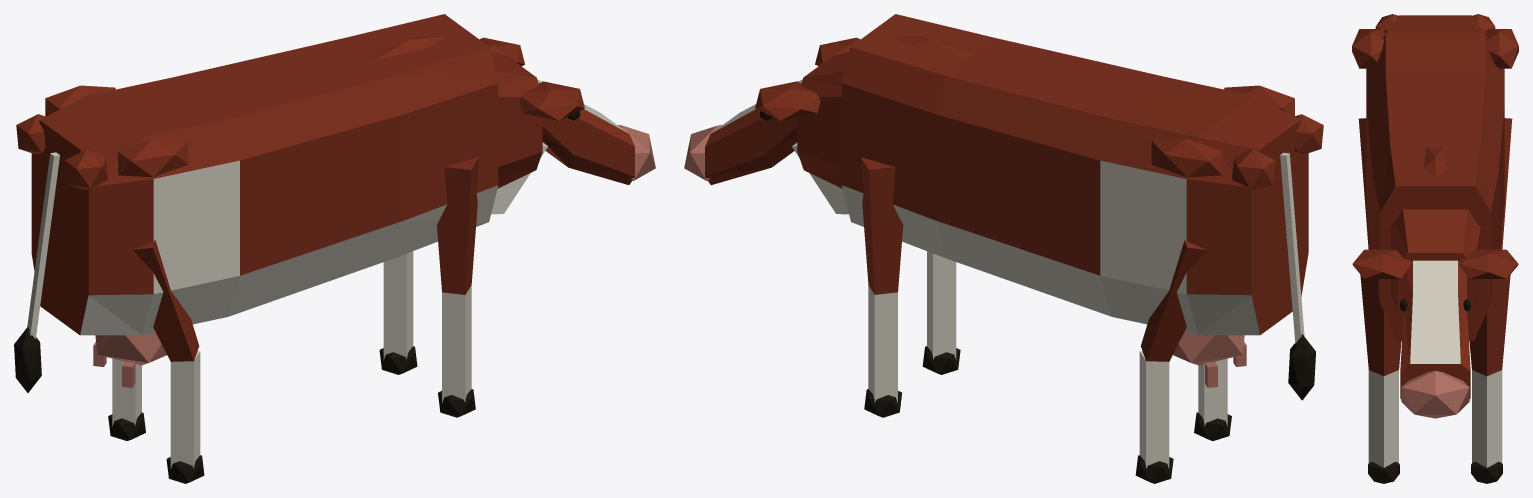
File: cow.glb
3 views of the same model, side by side, from view 1: azimuth 30°, elevation 25°; view 2: azimuth 150°, elevation 25°; view 3: azimuth 270°, elevation 25° (orthographic). The views are drawn at different scales.
Visible parts, largest first — view 1: cow; view 2: cow; view 3: cow.
Part boxes in pixels (x1,y1,x2,y2): cow: (14, 14, 655, 483); cow: (684, 14, 1323, 483); cow: (1352, 14, 1518, 483).
Size of the model in its own units: 2.55 by 1.4 by 0.6632.
